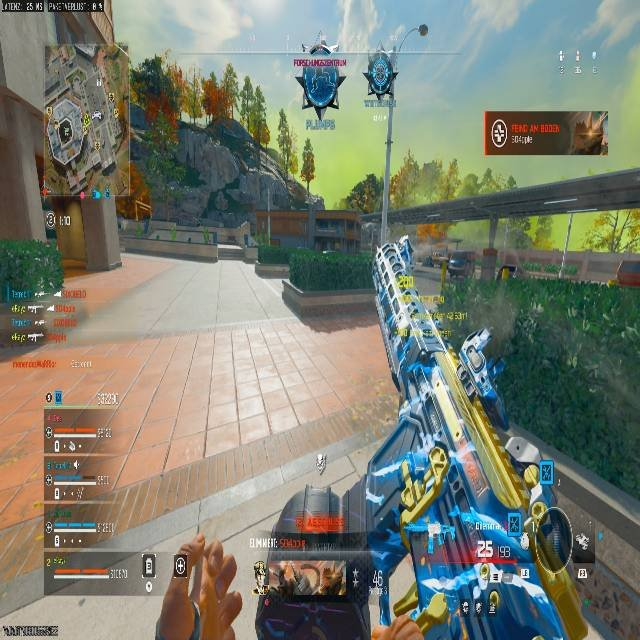player: (386, 236, 412, 274)
